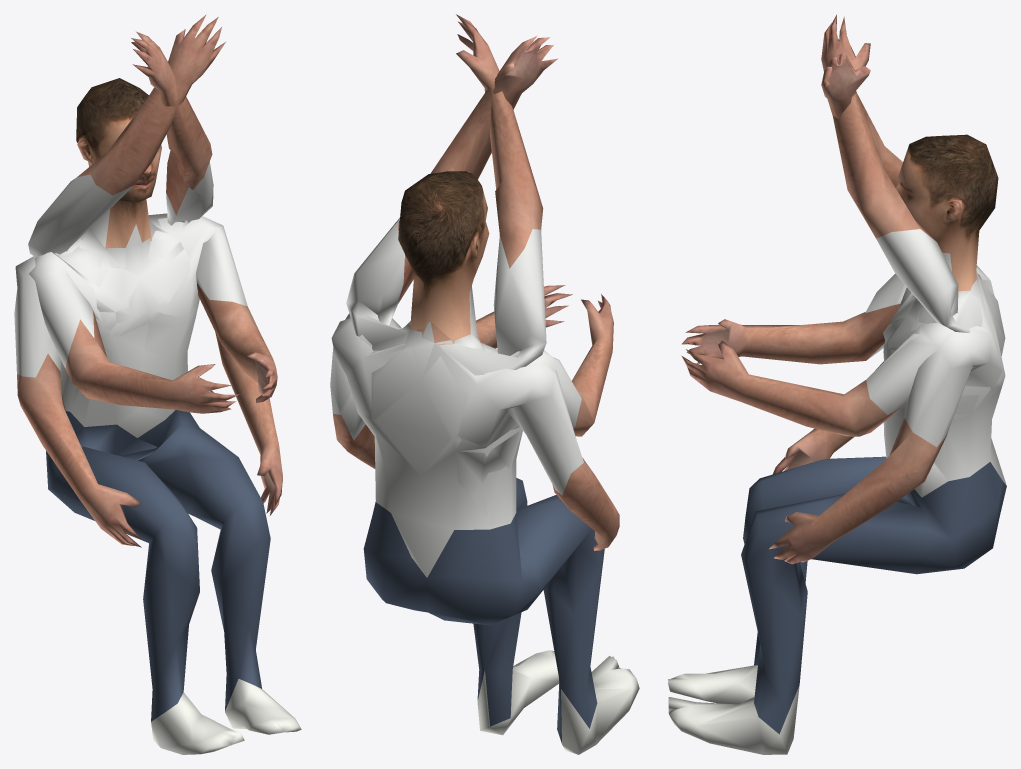
Rendered from crowd.glb.
3 renders of one model, left to right at view 1: azimuth 30°, elevation 25°; view 2: azimuth 150°, elevation 25°; view 3: azimuth 270°, elevation 25°, orthographic. The views are drawn at different scales.
Parts seen in each view (by area): view 1: Library_Crowd_cheering, Library_Crowd_clapping, Library_Crowd_seated; view 2: Library_Crowd_cheering, Library_Crowd_seated, Library_Crowd_clapping; view 3: Library_Crowd_cheering, Library_Crowd_clapping, Library_Crowd_seated.
Boxes of the visible parts, box(x1,y1,x2,y2) form: Library_Crowd_cheering: box(28, 14, 301, 754); Library_Crowd_clapping: box(29, 87, 293, 744); Library_Crowd_seated: box(14, 217, 282, 547); Library_Crowd_cheering: box(346, 14, 639, 754); Library_Crowd_seated: box(330, 318, 619, 550); Library_Crowd_clapping: box(345, 171, 631, 703); Library_Crowd_cheering: box(668, 14, 1006, 754); Library_Crowd_clapping: box(668, 136, 1004, 725); Library_Crowd_seated: box(769, 265, 1004, 564).
Size of the model in its own units: 0.5966 by 1.65 by 0.7214.
5 materials, 2 textured.
